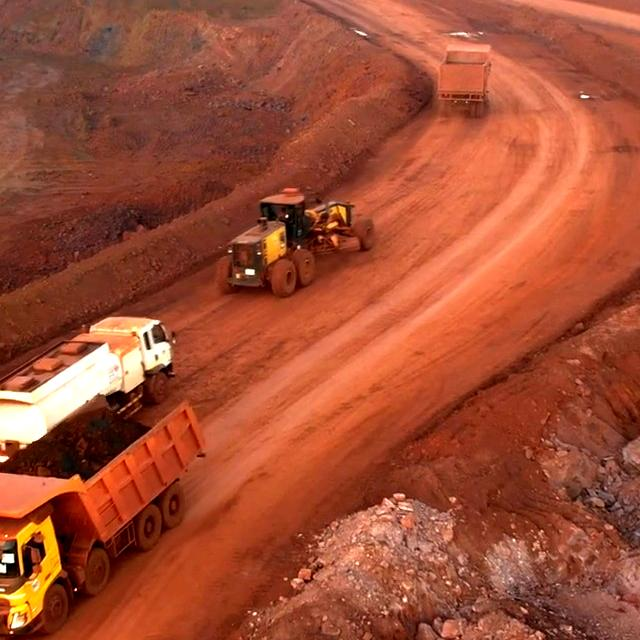Dumper truck: (0, 498, 63, 640), (437, 49, 494, 116)
